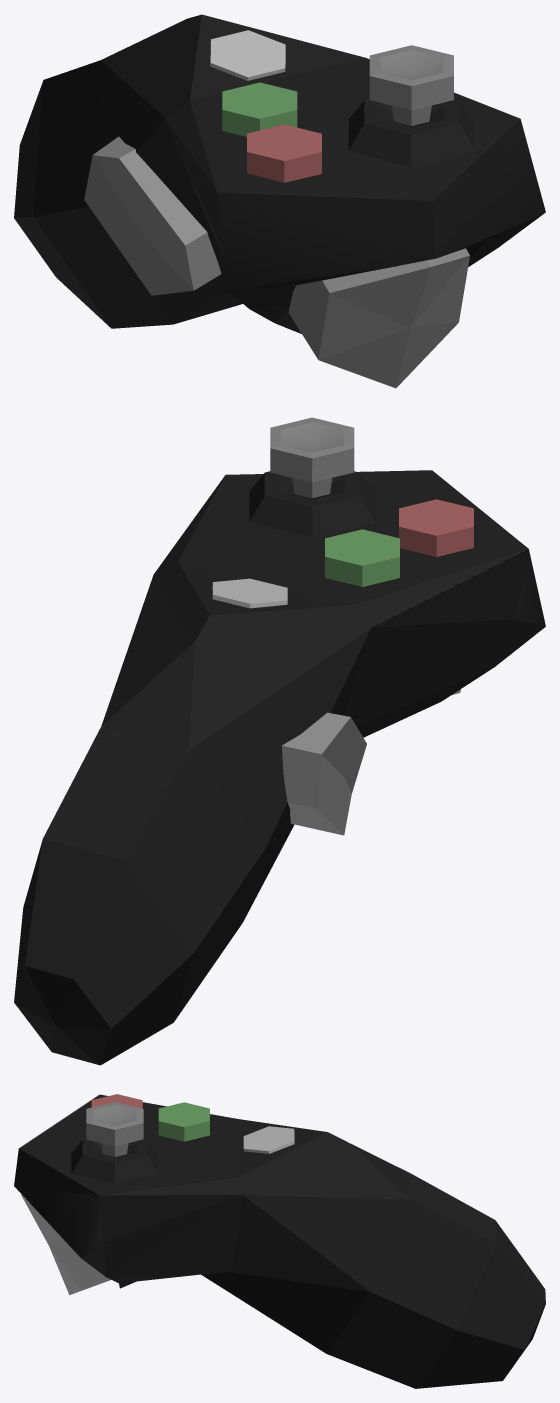
The model's file is LeftOculusTouch_Minimal.fbx.
The picture shows the model from 3 angles, top to bottom: view 1: azimuth 30°, elevation 25°; view 2: azimuth 150°, elevation 25°; view 3: azimuth 270°, elevation 25°; orthographic projection. The views are drawn at different scales.
Visible parts, largest first — view 1: ControllerMain.001, Trigger.001, GripTrigger.001, Thumbstick.001, Top_Button.001, Bottom_Button.001, Option_Button.001; view 2: ControllerMain.001, GripTrigger.001, Thumbstick.001, Bottom_Button.001, Top_Button.001, Option_Button.001; view 3: ControllerMain.001, Thumbstick.001, Trigger.001, Bottom_Button.001, Option_Button.001, Top_Button.001.
Part boxes in pixels (bbox=[...]): ControllerMain.001: bbox=[14, 14, 545, 333]; Trigger.001: bbox=[288, 248, 469, 388]; GripTrigger.001: bbox=[84, 136, 221, 295]; Thumbstick.001: bbox=[369, 45, 453, 125]; Top_Button.001: bbox=[247, 124, 321, 182]; Bottom_Button.001: bbox=[222, 82, 297, 136]; Option_Button.001: bbox=[210, 30, 285, 80]; ControllerMain.001: bbox=[14, 470, 545, 1065]; GripTrigger.001: bbox=[282, 712, 366, 835]; Thumbstick.001: bbox=[270, 417, 354, 498]; Bottom_Button.001: bbox=[325, 529, 399, 586]; Top_Button.001: bbox=[399, 499, 473, 556]; Option_Button.001: bbox=[212, 578, 287, 608]; ControllerMain.001: bbox=[14, 1094, 545, 1388]; Thumbstick.001: bbox=[86, 1102, 143, 1156]; Trigger.001: bbox=[21, 1194, 110, 1294]; Bottom_Button.001: bbox=[158, 1102, 209, 1141]; Option_Button.001: bbox=[243, 1126, 294, 1153]; Top_Button.001: bbox=[91, 1094, 142, 1108].
Bounding box in the file's own units: 5.17 × 6.28 × 10.96.
